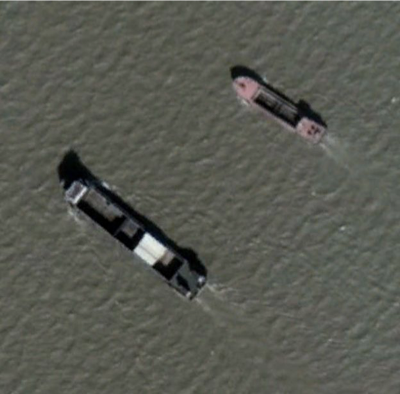boat: (58, 171, 209, 301), (229, 67, 328, 145)
